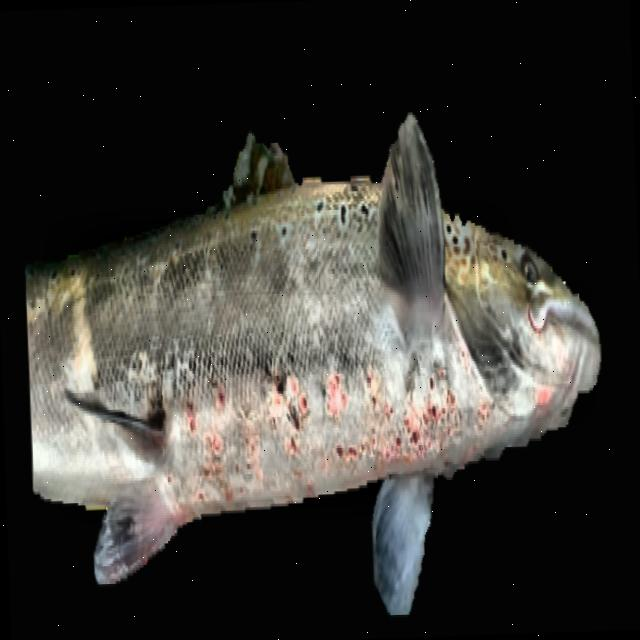mild_red: (26, 183, 472, 520)
